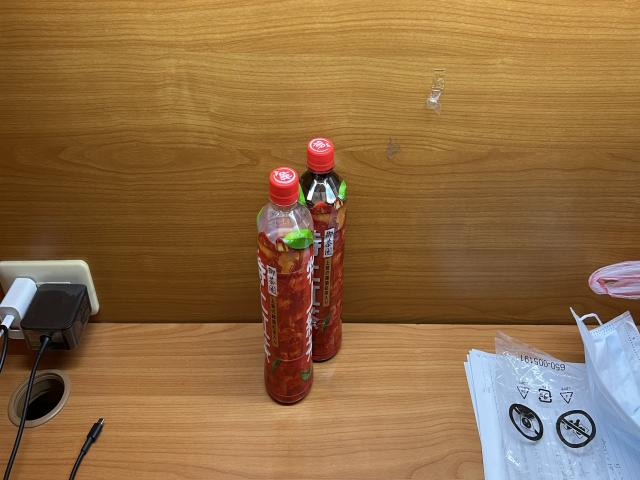bottle: (255, 166, 315, 408), (293, 135, 346, 368)
